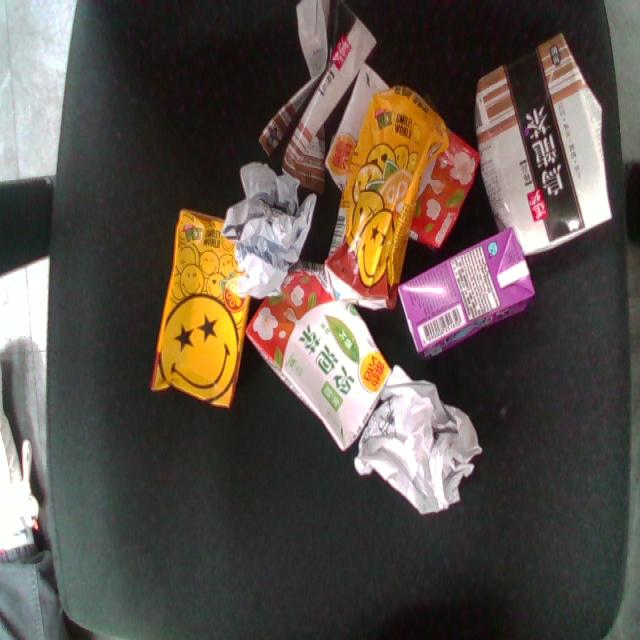juicebox: (442, 14, 640, 288), (205, 242, 432, 473), (303, 80, 462, 325), (134, 196, 272, 431), (369, 211, 561, 375)
paper: (315, 347, 514, 549), (203, 142, 339, 320)
